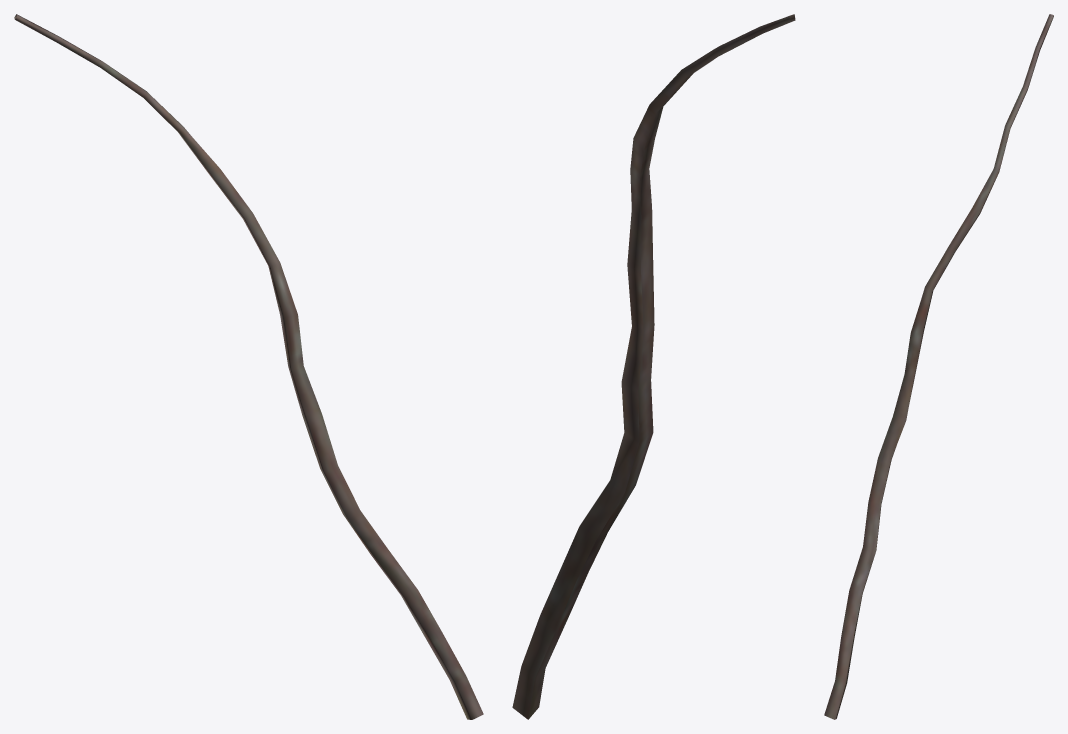
Rendered from SM_Stick_04.fbx.
3 views of the same model, side by side, from view 1: azimuth 30°, elevation 25°; view 2: azimuth 150°, elevation 25°; view 3: azimuth 270°, elevation 25° (orthographic). The views are drawn at different scales.
Visible parts, largest first — view 1: SM_Stick_04_LOD0; view 2: SM_Stick_04_LOD0; view 3: SM_Stick_04_LOD0.
Boxes of the visible parts, bbox=[...] form: SM_Stick_04_LOD0: bbox=[14, 14, 483, 719]; SM_Stick_04_LOD0: bbox=[512, 14, 795, 719]; SM_Stick_04_LOD0: bbox=[824, 14, 1053, 719].
Size of the model in its own units: 104 by 74.03 by 204.
